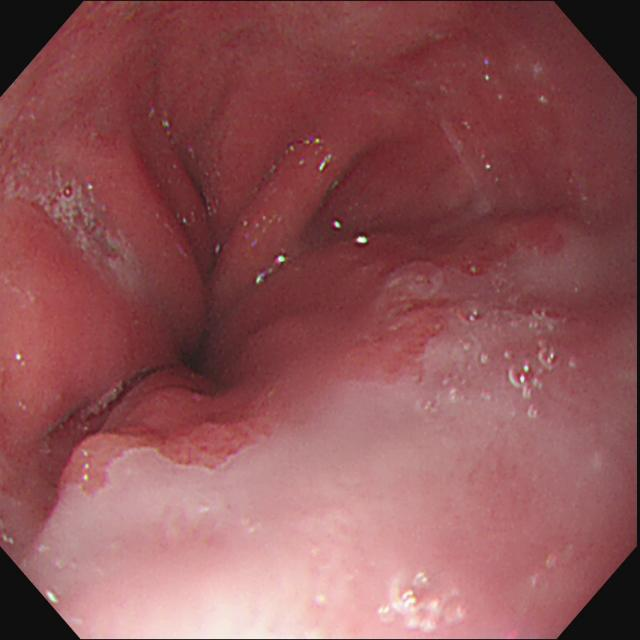I: (43, 69, 455, 450)
J: (443, 124, 496, 216)
T: (37, 171, 134, 276), (508, 348, 559, 393)
U: (256, 254, 286, 285)
